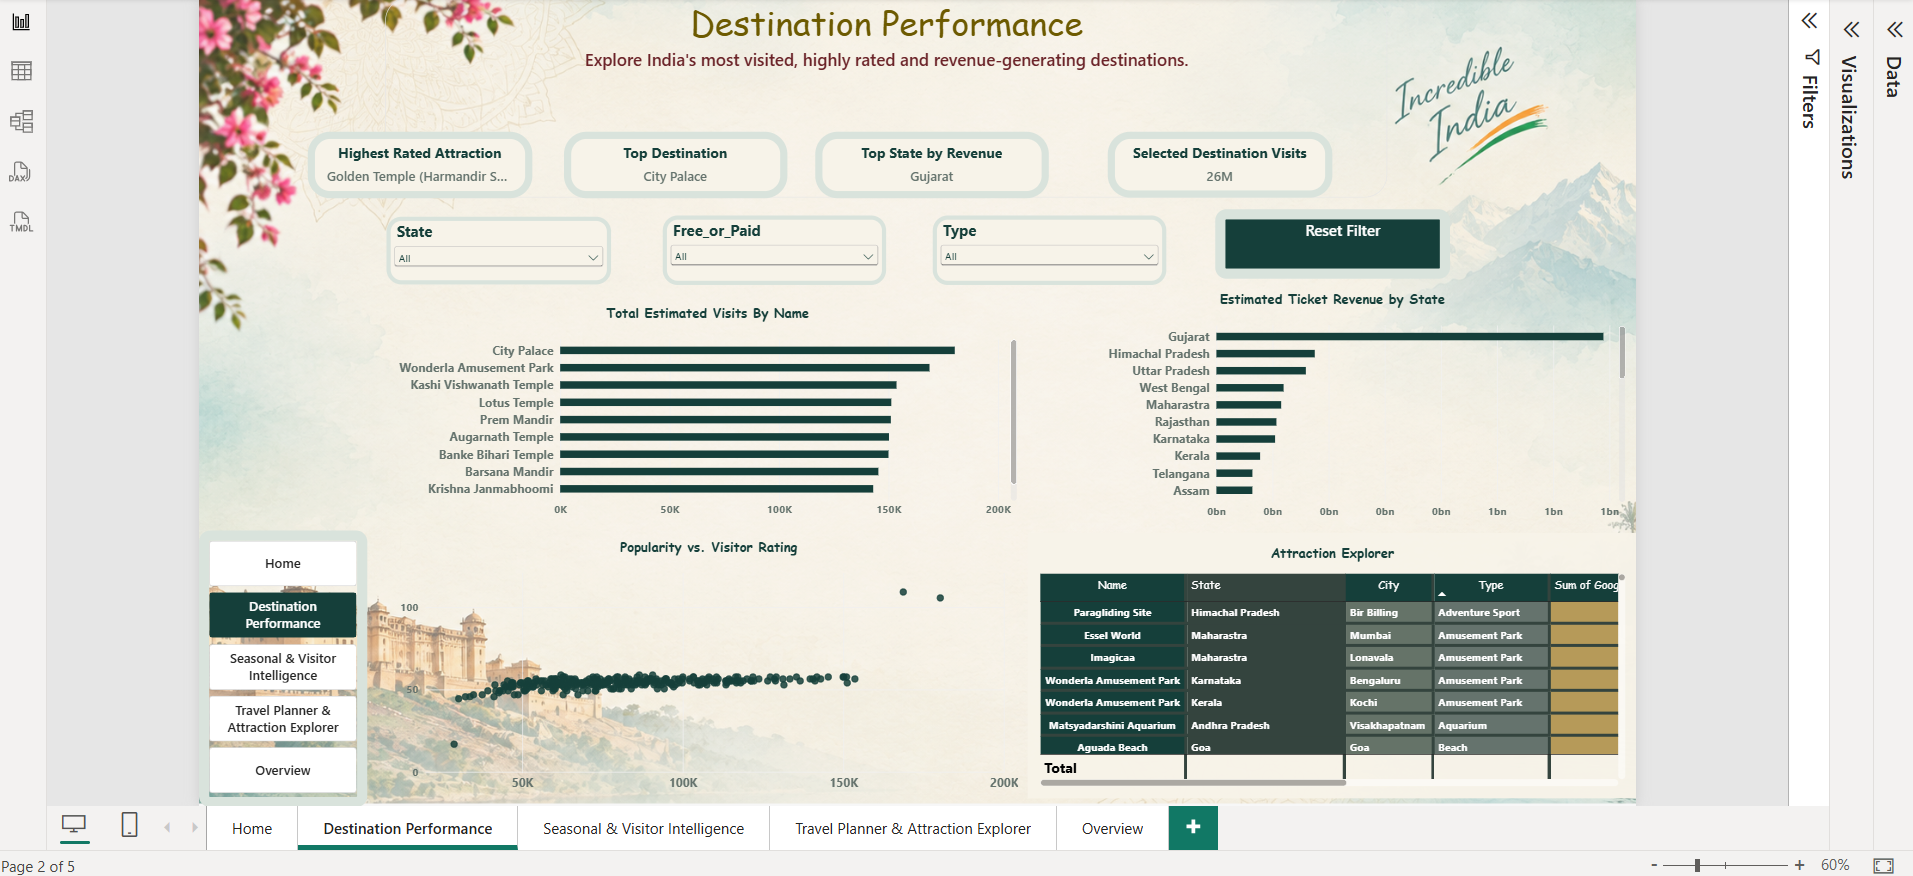

This screenshot's page, from the dashboard's own definition file:
{"tool":"powerbi","page":{"name":"Destination Performance","canvas":[1920,1080],"ordinal":1},"visuals":[{"type":"textbox","title":"   Destination  Performance","box":[248,0,1338,266],"z":0},{"type":"cardVisual","fields":{"Data":["Top_Indian_Places.Top Destination"]},"box":[488.4,177.9,298.3,89],"z":1000},{"type":"cardVisual","fields":{"Data":["Top_Indian_Places.Highest Rated Attraction"]},"box":[144.8,177.9,300,89],"z":2000},{"type":"cardVisual","fields":{"Data":["Top_Indian_Places.Top State by Revenue"]},"box":[823.3,177.9,312.2,89],"z":3000},{"type":"cardVisual","fields":{"Data":["Top_Indian_Places.Selected Destination Visits"]},"box":[1214,177.9,300,88],"z":4000},{"type":"slicer","fields":{"Values":["Top_Indian_Places.State"]},"box":[251.2,293,300,90.7],"z":5000},{"type":"slicer","fields":{"Values":["Top_Indian_Places.Free_or_Paid"]},"box":[619.2,291.3,298.3,92.4],"z":6000},{"type":"slicer","fields":{"Values":["Top_Indian_Places.Type"]},"box":[980.2,291.3,312.2,92.4],"z":7000},{"type":"clusteredBarChart","title":"Total Estimated Visits By Name","fields":{"Category":["Top_Indian_Places.Name"],"Y":["Top_Indian_Places.Total Estimated Visits"]},"box":[251.2,394.2,858,320],"z":8000},{"type":"clusteredBarChart","fields":{"Category":["Top_Indian_Places.State"],"Y":["Top_Indian_Places.Estimated Ticket Revenue"]},"box":[1107.6,375,814,340],"z":9000},{"type":"scatterChart","title":"Popularity vs. Visitor  Rating","fields":{"Category":["Top_Indian_Places.Name"],"X":["Top_Indian_Places.Total Estimated Visits"],"Y":["Sum(Top_Indian_Places.Google review rating)"]},"box":[252.9,706.4,858,374],"z":10000},{"type":"tableEx","title":"Attraction Explorer ","fields":{"Values":["Top_Indian_Places.Name","Top_Indian_Places.State","Top_Indian_Places.City","Top_Indian_Places.Type","Sum(Top_Indian_Places.Google review rating)","Sum(Top_Indian_Places.Entrance Fee in INR)","Top_Indian_Places.Total Estimated Visits","Top_Indian_Places.Estimated Ticket Revenue"]},"box":[1107.6,715.1,814,354],"z":11000},{"type":"actionButton","title":"Reset Filter","box":[1357,282.6,314,92.4],"z":12000},{"type":"pageNavigator","box":[0,711.3,225,369.8],"z":12001}]}

Visuals, with their boxes on the page's 1920x1080 design canvas (x1, y1, x2, y2). These are canvas units, not pixel positions in the 1913x876 screenshot, which may show the page scaled, cropped or inside an application window:
"   Destination  Performance" textbox: 248,0,1586,266
cardVisual - Top_Indian_Places.Top Destination: 488,178,787,267
cardVisual - Top_Indian_Places.Highest Rated Attraction: 145,178,445,267
cardVisual - Top_Indian_Places.Top State by Revenue: 823,178,1136,267
cardVisual - Top_Indian_Places.Selected Destination Visits: 1214,178,1514,266
slicer - Top_Indian_Places.State: 251,293,551,384
slicer - Top_Indian_Places.Free_or_Paid: 619,291,918,384
slicer - Top_Indian_Places.Type: 980,291,1292,384
"Total Estimated Visits By Name" clusteredBarChart: 251,394,1109,714
clusteredBarChart - Top_Indian_Places.State x Top_Indian_Places.Estimated Ticket Revenue: 1108,375,1922,715
"Popularity vs. Visitor  Rating" scatterChart: 253,706,1111,1080
"Attraction Explorer " tableEx: 1108,715,1922,1069
"Reset Filter" actionButton: 1357,283,1671,375
pageNavigator: 0,711,225,1081
